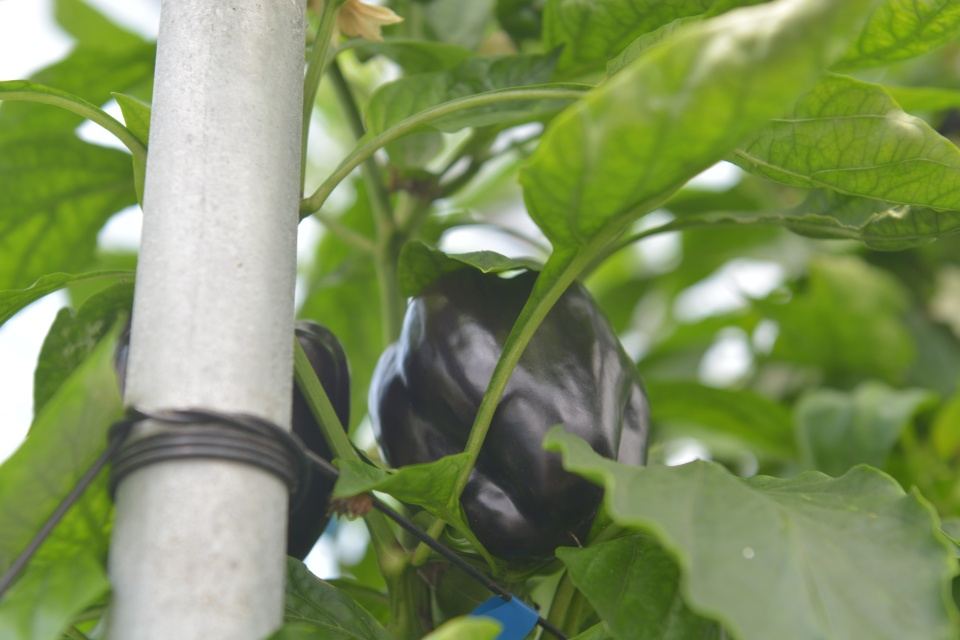flower: (334, 0, 406, 44)
fruit: (366, 263, 654, 569), (287, 318, 353, 563)
